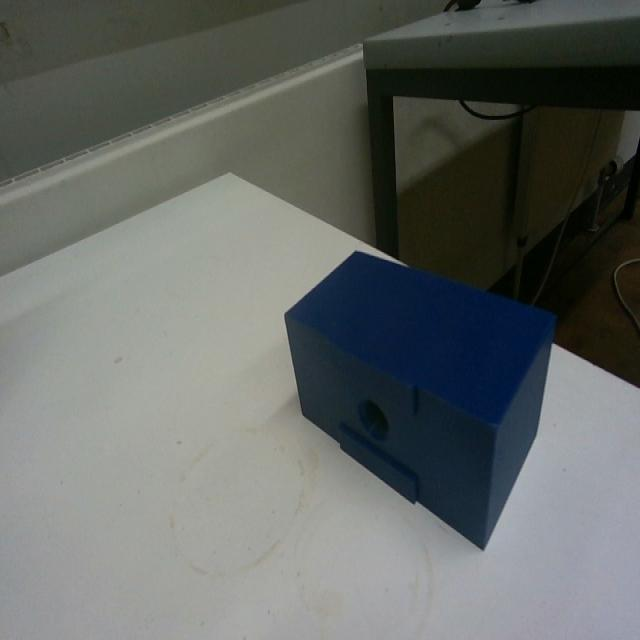Blue Cuboid: (281, 244, 558, 551)
